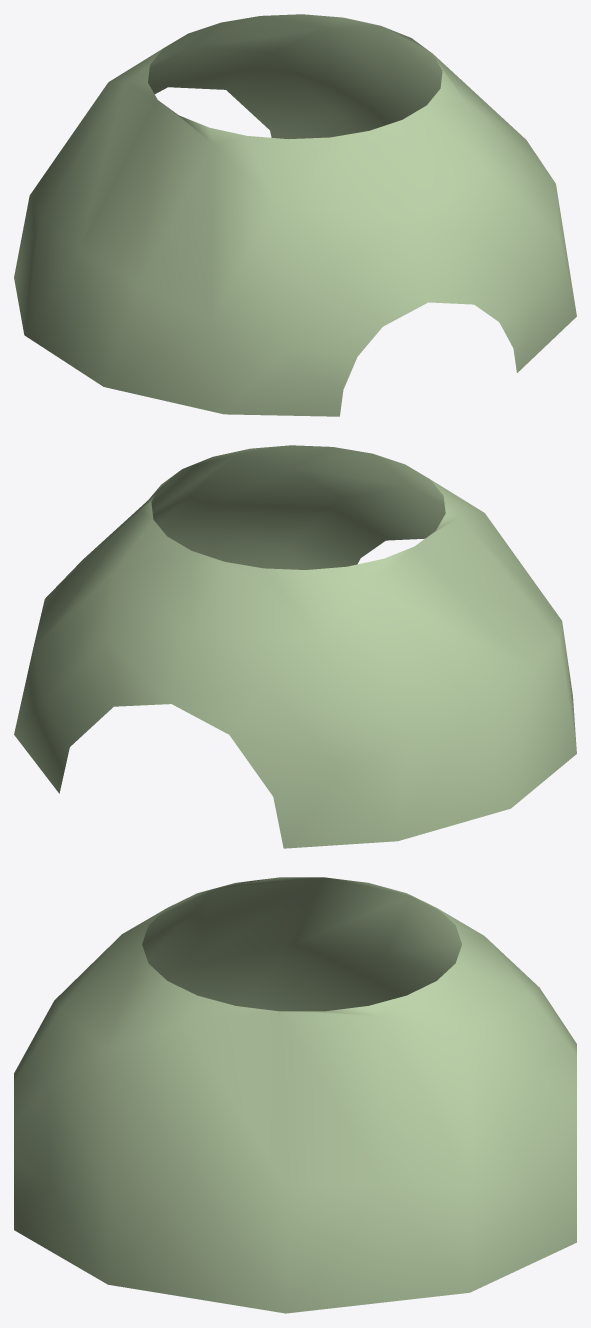
The model's file is original-22.obj.
The picture shows the model from 3 angles, top to bottom: view 1: azimuth 30°, elevation 25°; view 2: azimuth 150°, elevation 25°; view 3: azimuth 270°, elevation 25°; orthographic projection. The views are drawn at different scales.
Visible parts, largest first — view 1: Group22/mesh22/mesh22-geometry#mesh22-geometry; view 2: Group22/mesh22/mesh22-geometry#mesh22-geometry; view 3: Group22/mesh22/mesh22-geometry#mesh22-geometry.
Boxes of the visible parts, <box> form: Group22/mesh22/mesh22-geometry#mesh22-geometry: <box>14,14,576,416</box>; Group22/mesh22/mesh22-geometry#mesh22-geometry: <box>14,445,576,848</box>; Group22/mesh22/mesh22-geometry#mesh22-geometry: <box>14,877,576,1313</box>.
Bounding box in the file's own units: 0.2467 × 0.1067 × 0.2277.
